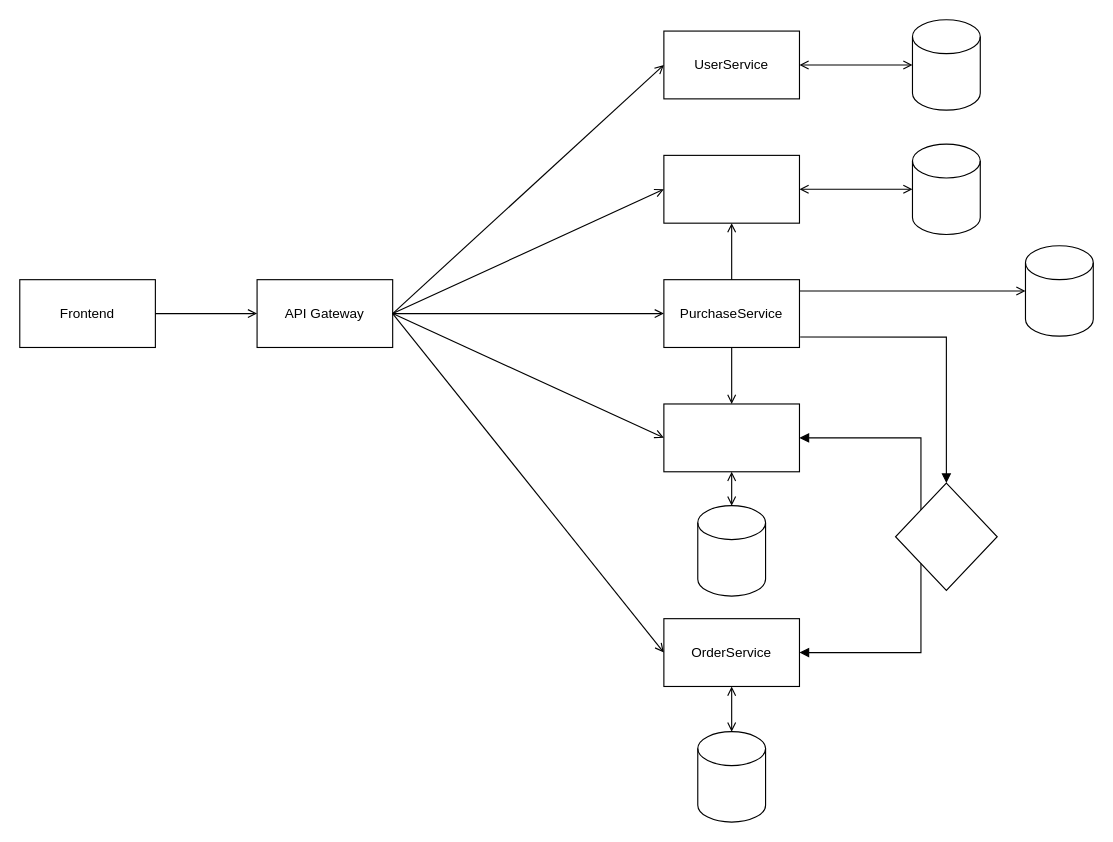
The diagram is 1113 pixels wide and 842 high, and some of its shapes have lost their labels. The shapes that lost their labels are listed below. From the top down, each one's centre as x and y in pixels, then its label:
At pixel 731 188: "CatalogService".
At pixel 731 437: "ShipInventoryService".
At pixel 945 536: "Bus Mensajeria".
